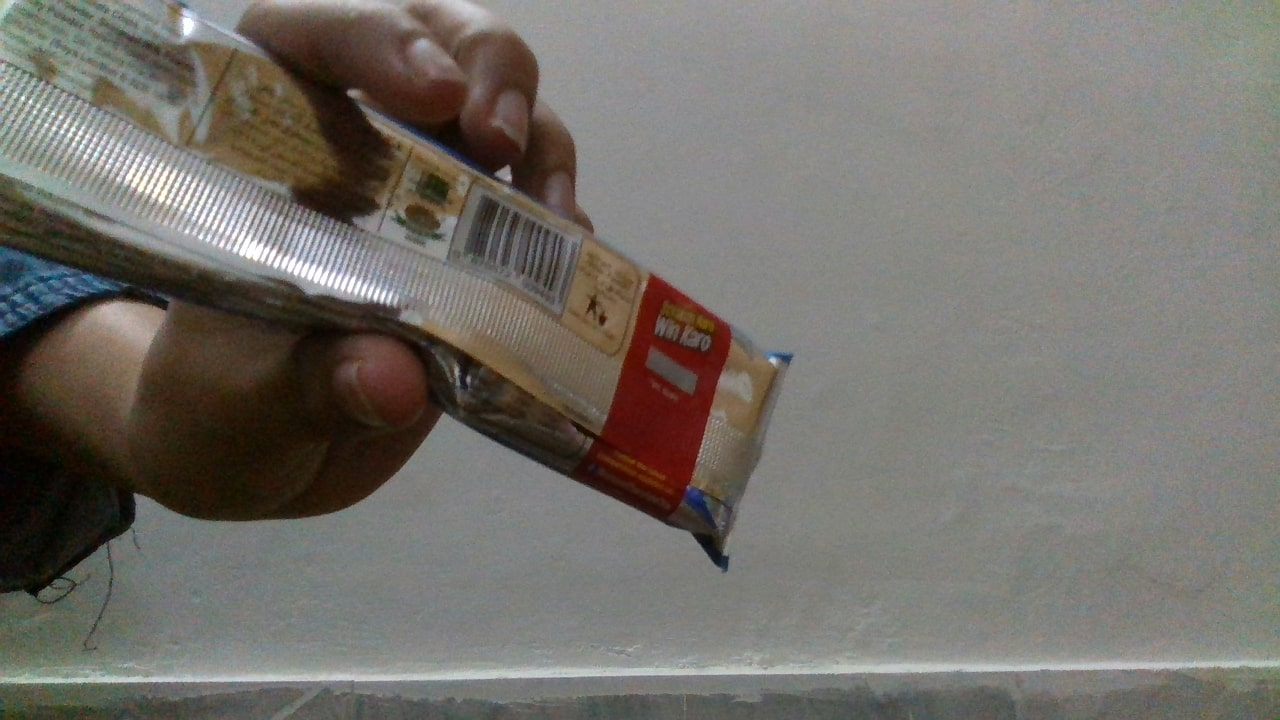Barcode: (458, 191, 583, 307)
